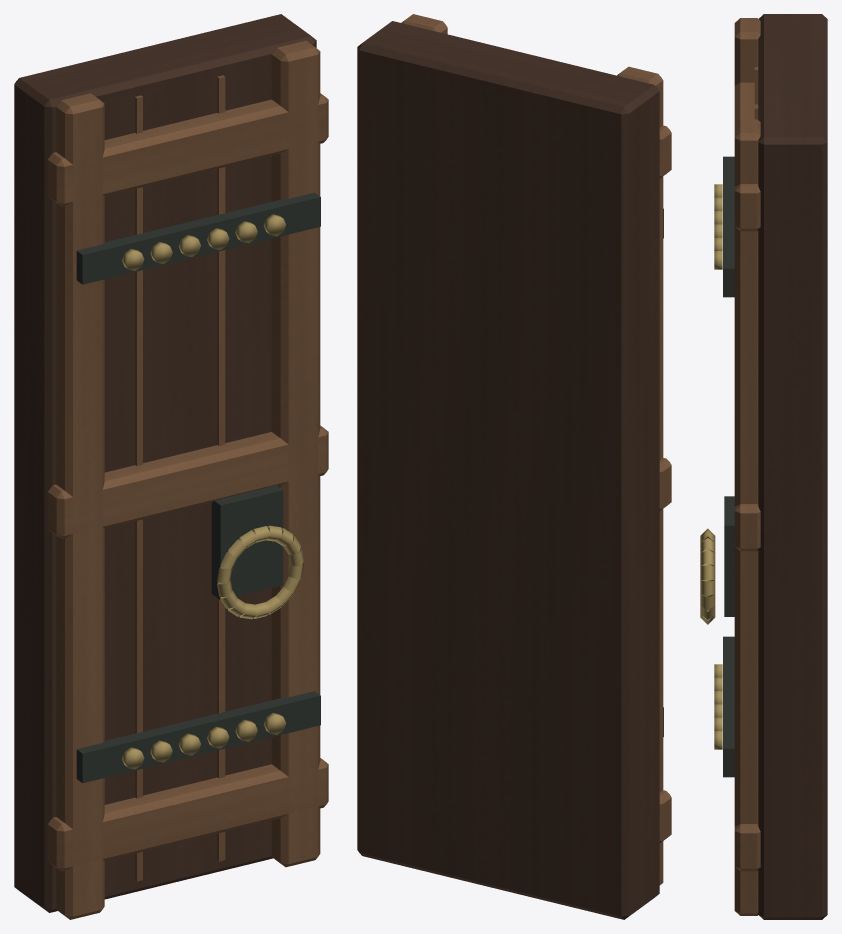
File: room_door_leaf.glb
3 renders of one model, left to right at view 1: azimuth 30°, elevation 25°; view 2: azimuth 150°, elevation 25°; view 3: azimuth 270°, elevation 25°, orthographic. The views are drawn at different scales.
Visible parts, largest first — view 1: Hall_Timber, Hall_CarvedWood, Hall_Iron, Hall_Bronze; view 2: Hall_Timber, Hall_CarvedWood; view 3: Hall_Timber, Hall_CarvedWood, Hall_Iron, Hall_Bronze.
Boxes of the visible parts, <box> form: Hall_Timber: <box>14,14,316,912</box>; Hall_CarvedWood: <box>47,40,328,919</box>; Hall_Iron: <box>76,192,320,783</box>; Hall_Bronze: <box>122,214,303,769</box>; Hall_Timber: <box>357,21,659,919</box>; Hall_CarvedWood: <box>401,14,671,885</box>; Hall_Timber: <box>758,14,827,919</box>; Hall_CarvedWood: <box>734,18,760,915</box>; Hall_Iron: <box>723,156,734,777</box>; Hall_Bronze: <box>700,184,722,749</box>.
Size of the model in its own units: 0.96 by 2.74 by 0.404.
Materials: 4 (2 with a texture image).
